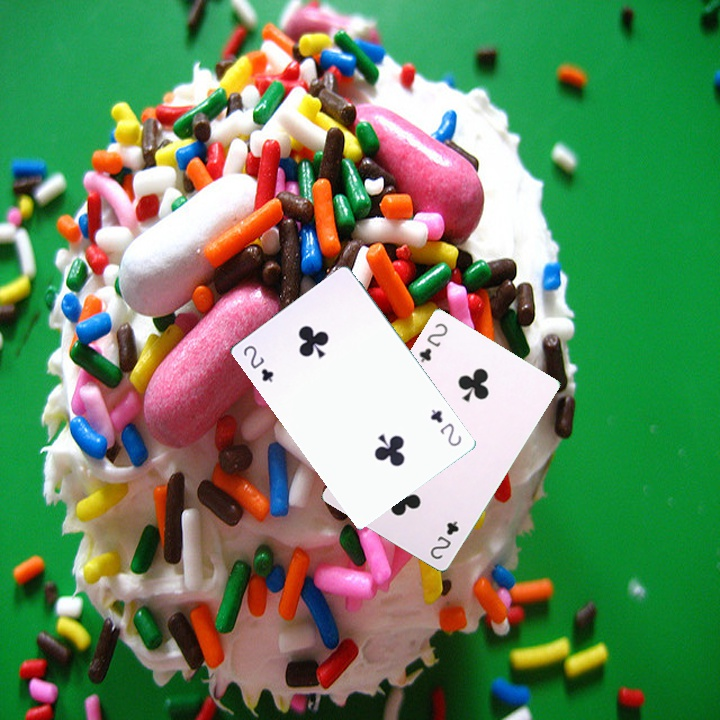2c: (426, 405, 464, 449), (415, 319, 451, 365), (239, 341, 276, 385), (426, 517, 461, 562)
